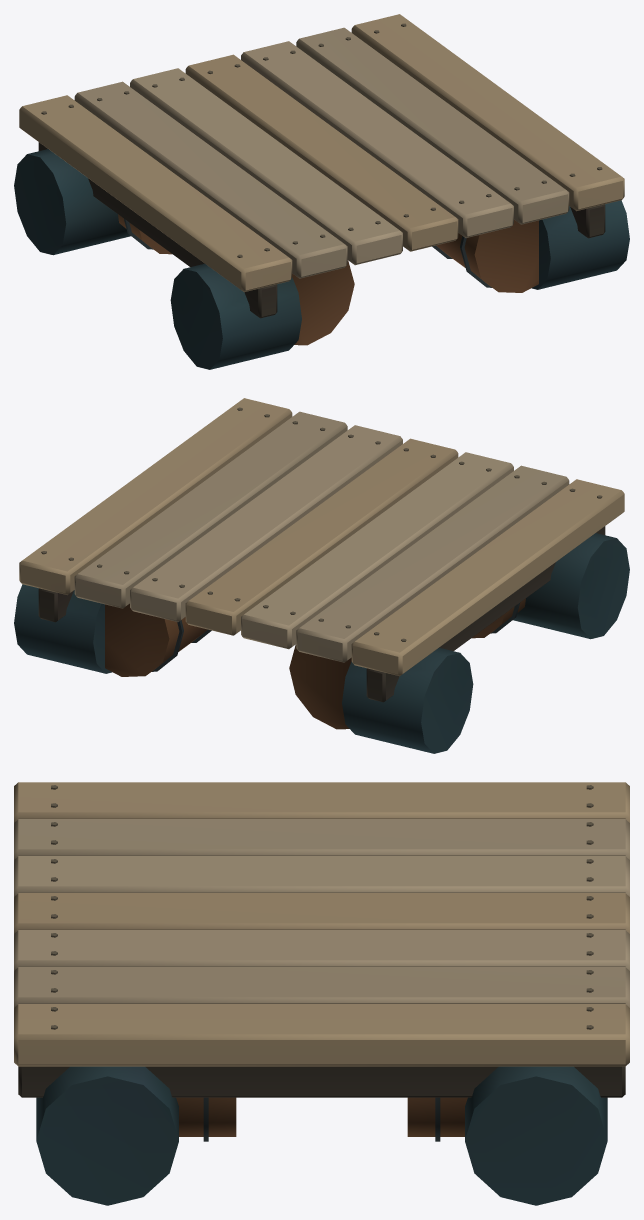
Rendered from floor.glb.
3 renders of one model, top to bottom at view 1: azimuth 30°, elevation 25°; view 2: azimuth 150°, elevation 25°; view 3: azimuth 270°, elevation 25°, orthographic. The views are drawn at different scales.
Visible parts, largest first — view 1: floor; view 2: floor; view 3: floor.
Part boxes in pixels (x1,y1,x2,y2): floor: (14, 14, 629, 369); floor: (14, 398, 629, 753); floor: (14, 782, 629, 1205).
Bounding box in the file's own units: 3.6 × 1.01 × 3.45.
